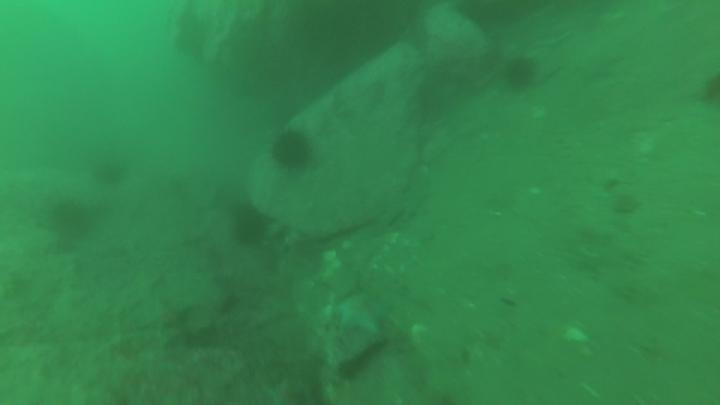echinus: (47, 198, 102, 250), (271, 130, 317, 174), (229, 203, 272, 249), (502, 57, 540, 95), (89, 160, 132, 191)
